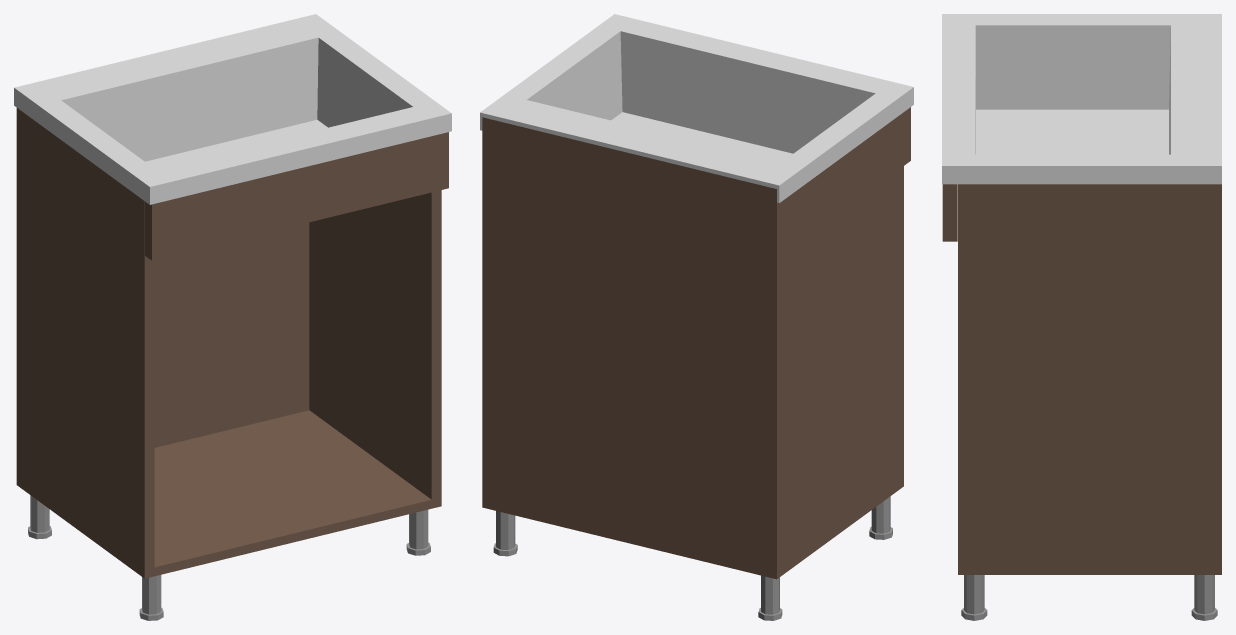
The model's file is Bathroom_C2_02.fbx.
3 renders of one model, left to right at view 1: azimuth 30°, elevation 25°; view 2: azimuth 150°, elevation 25°; view 3: azimuth 270°, elevation 25°, orthographic. The views are drawn at different scales.
Parts seen in each view (by area): view 1: Bathroom_C2_02; view 2: Bathroom_C2_02; view 3: Bathroom_C2_02.
Boxes of the visible parts, x1,y1,x2,y2 form: Bathroom_C2_02: [14, 14, 451, 620]; Bathroom_C2_02: [480, 14, 913, 620]; Bathroom_C2_02: [942, 14, 1221, 620].
Bounding box in the file's own units: 61 × 85.82 × 47.51.
